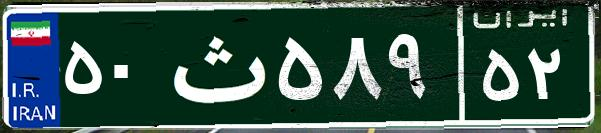0: (110, 28, 158, 105)
2: (525, 38, 570, 115)
5: (273, 28, 330, 110), (57, 26, 110, 107), (475, 38, 525, 113)
8: (330, 28, 385, 110)
9: (385, 28, 445, 110)
ث: (158, 15, 273, 115)
